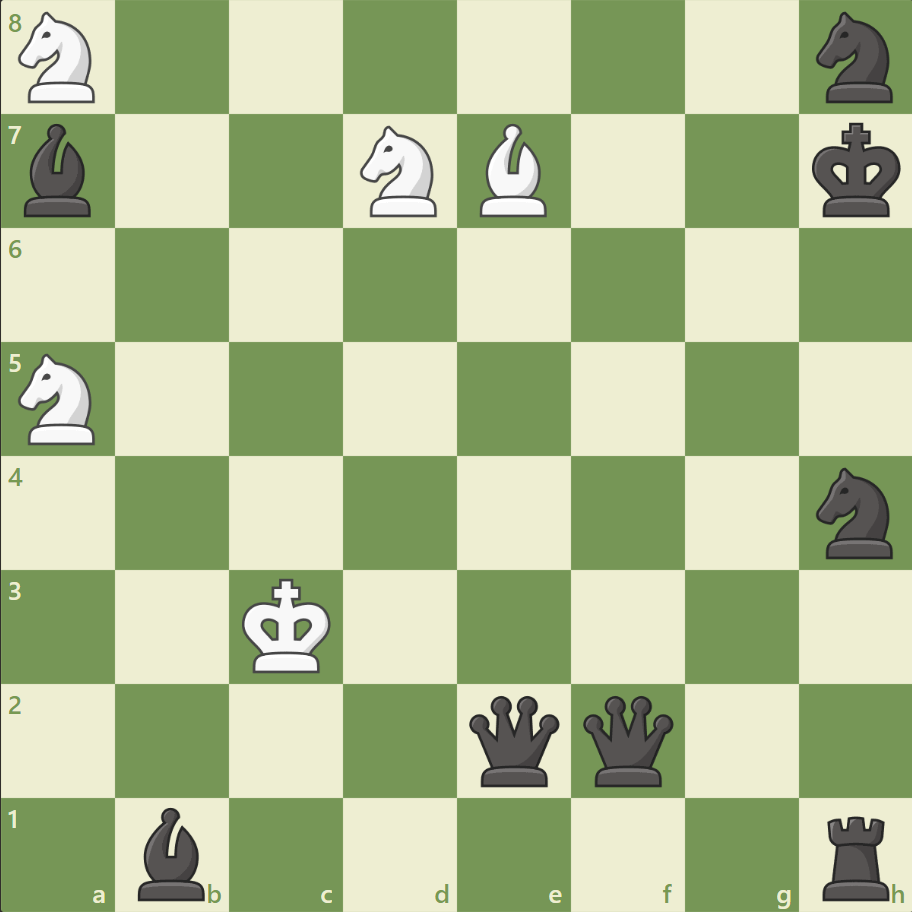B: (471, 120, 555, 222)
K: (238, 571, 338, 679)
N: (351, 121, 449, 223), (11, 7, 108, 110), (11, 348, 108, 450)
b: (131, 801, 215, 904), (17, 120, 101, 222)
k: (806, 117, 906, 225)
n: (806, 7, 903, 110), (806, 461, 903, 564)
q: (464, 690, 563, 789), (578, 690, 677, 789)
r: (814, 806, 897, 904)
